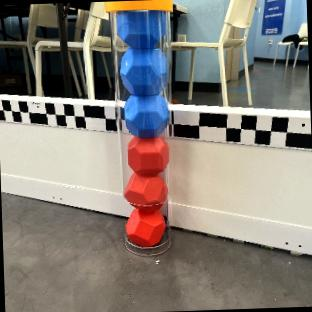V5_BLUE: (120, 48, 166, 98), (117, 9, 165, 48), (125, 93, 168, 136)
V5_RED: (127, 135, 168, 175), (126, 208, 168, 247), (124, 172, 167, 209)
